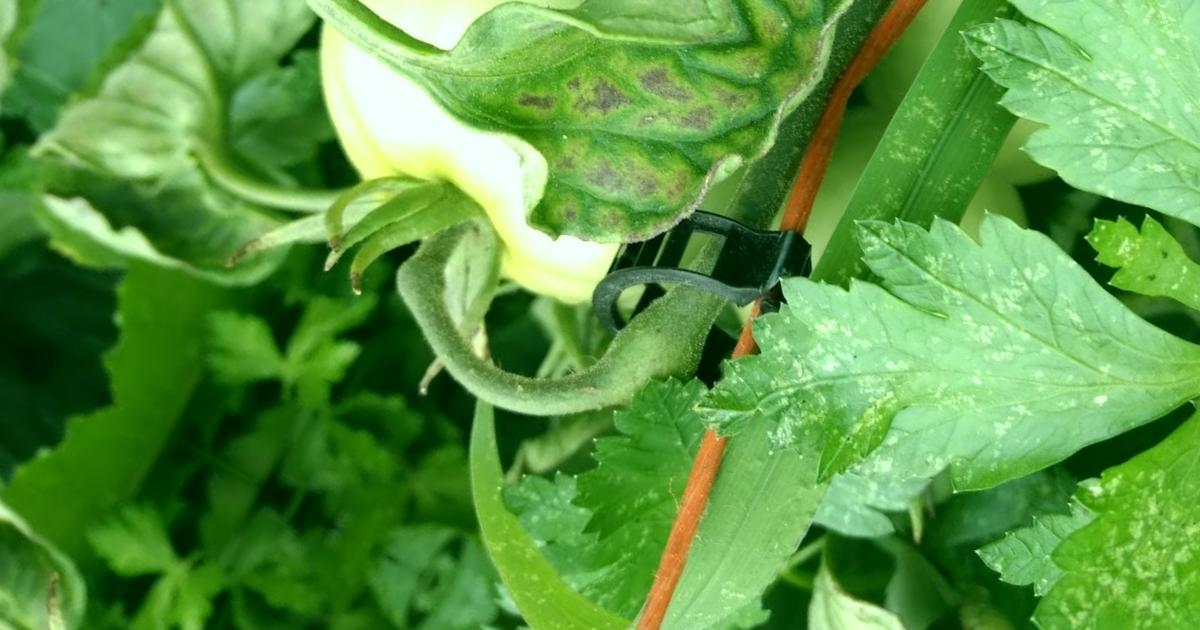Tomato leaf mosaic virus: (694, 128, 1200, 630)
